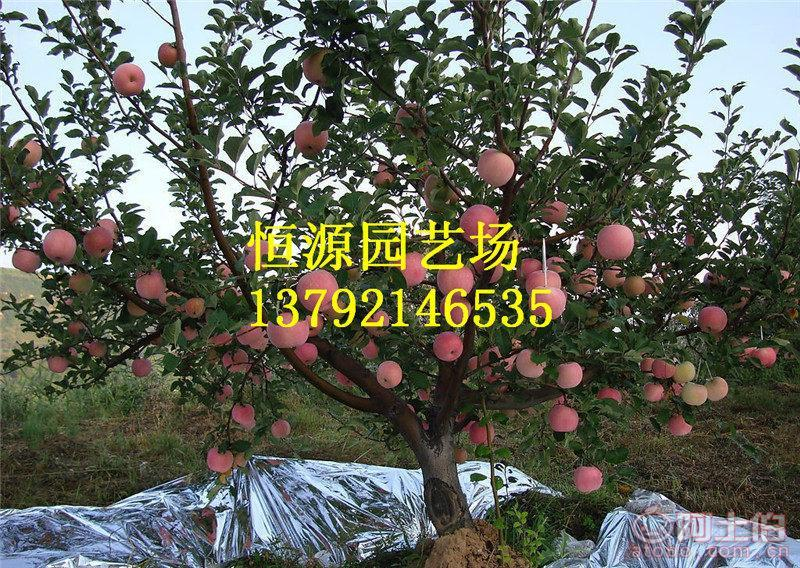apple: (297, 271, 338, 313), (300, 48, 340, 91), (476, 147, 514, 186), (597, 223, 635, 262), (82, 218, 118, 259), (267, 311, 308, 347), (461, 204, 498, 240), (293, 120, 328, 158), (43, 228, 78, 264), (533, 285, 566, 320), (437, 263, 475, 293), (111, 63, 144, 96), (393, 251, 426, 284), (433, 331, 463, 360), (517, 347, 546, 377), (697, 306, 727, 334), (549, 403, 578, 430), (13, 139, 42, 166), (573, 464, 602, 491), (376, 360, 403, 387), (556, 359, 583, 386), (137, 271, 164, 297), (11, 248, 40, 272), (208, 446, 234, 472), (156, 41, 182, 65), (683, 382, 708, 405), (750, 347, 776, 367), (706, 378, 729, 400), (622, 275, 645, 297), (673, 361, 696, 383), (669, 415, 692, 436), (651, 358, 673, 378), (186, 296, 205, 317)
